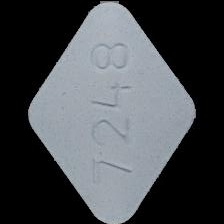16590-777: (0, 0, 224, 224)
